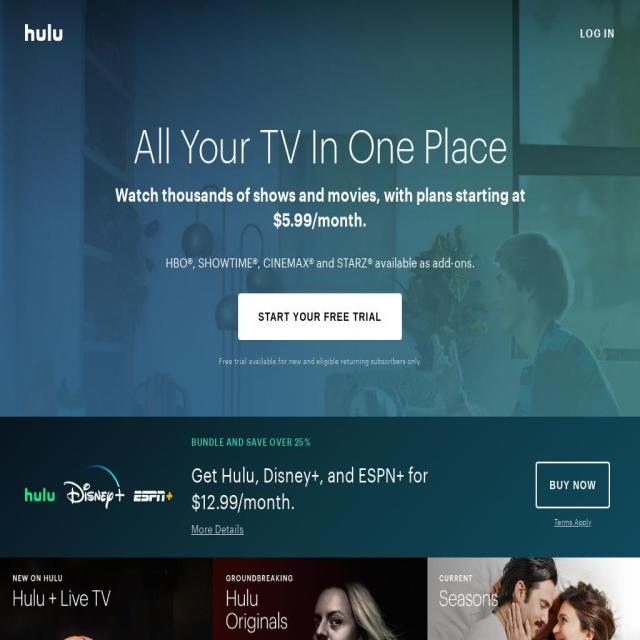button: (238, 292, 402, 340), (536, 462, 610, 509), (580, 8, 615, 54)
heading: (110, 117, 530, 170)
image: (0, 0, 640, 558), (0, 556, 640, 640), (25, 464, 173, 509), (25, 22, 63, 42)
link: (191, 518, 244, 536), (554, 514, 592, 528)
text: (110, 184, 530, 234), (191, 456, 428, 514), (110, 250, 530, 272), (191, 437, 512, 455), (152, 352, 488, 367)
